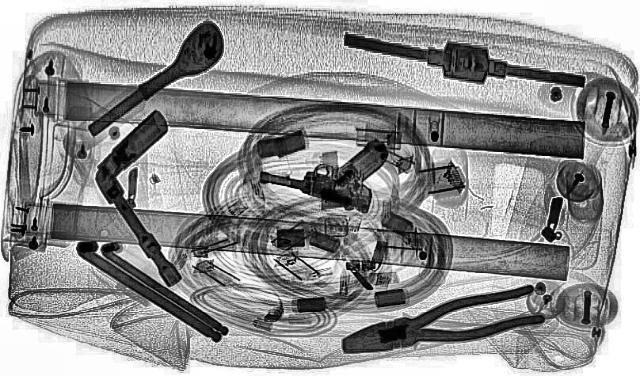Gun: (248, 123, 406, 213)
Pliers: (323, 284, 557, 364)
